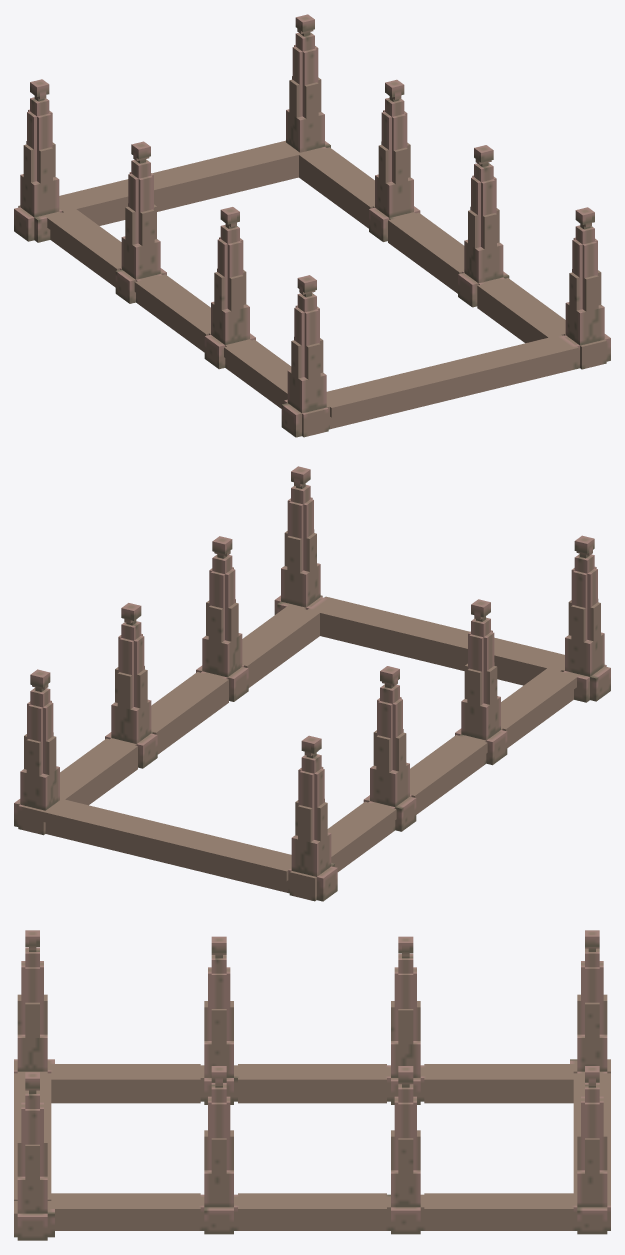
Rendered from BuildingBlock-L_Top.fbx.
The picture shows the model from 3 angles, top to bottom: view 1: azimuth 30°, elevation 25°; view 2: azimuth 150°, elevation 25°; view 3: azimuth 270°, elevation 25°; orthographic projection. The views are drawn at different scales.
Visible parts, largest first — view 1: BuildingBlock-L_Top; view 2: BuildingBlock-L_Top; view 3: BuildingBlock-L_Top.
Part boxes in pixels (x1,y1,x2,y2): BuildingBlock-L_Top: [14, 14, 610, 437]; BuildingBlock-L_Top: [14, 466, 610, 901]; BuildingBlock-L_Top: [14, 930, 610, 1240].
Bounding box in the file's own units: 510 × 230 × 800.
